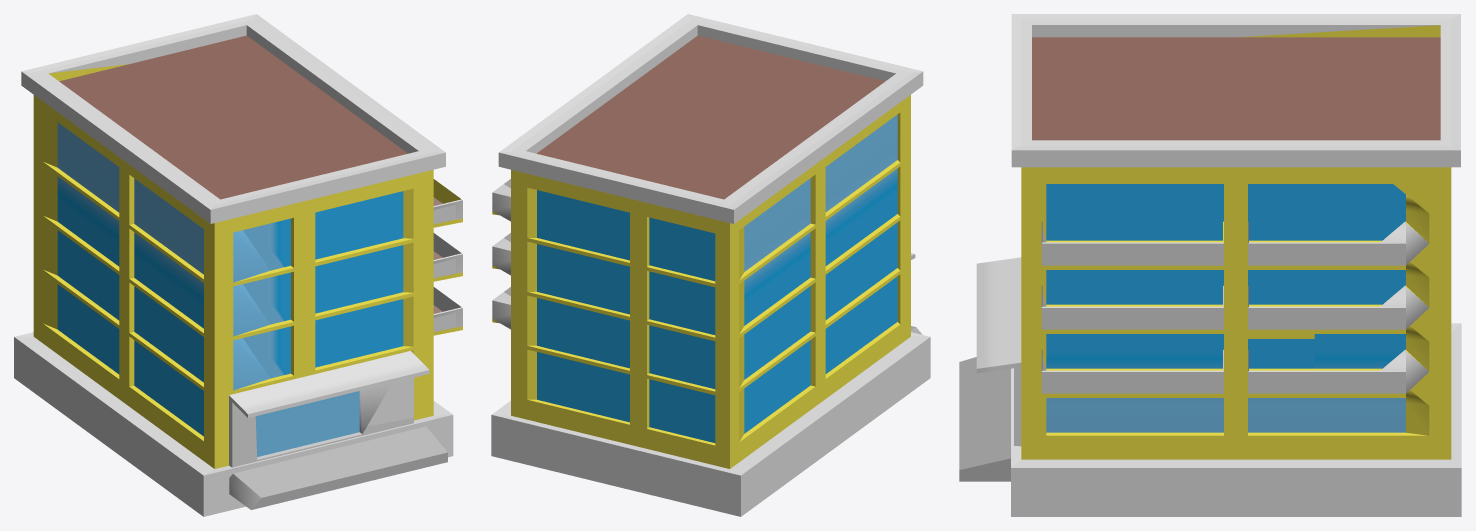
The model's file is YellowBuilding6x4x6.fbx.
The picture shows the model from 3 angles, left to right: view 1: azimuth 30°, elevation 25°; view 2: azimuth 150°, elevation 25°; view 3: azimuth 270°, elevation 25°; orthographic projection. The views are drawn at different scales.
Visible parts, largest first — view 1: House; view 2: House; view 3: House.
Boxes of the visible parts, x1,y1,x2,y2 form: House: (14, 14, 462, 516); House: (491, 14, 930, 516); House: (959, 14, 1461, 516).
Size of the model in its own units: 5.57 by 5.97 by 7.5.
1 material, 1 textured.
